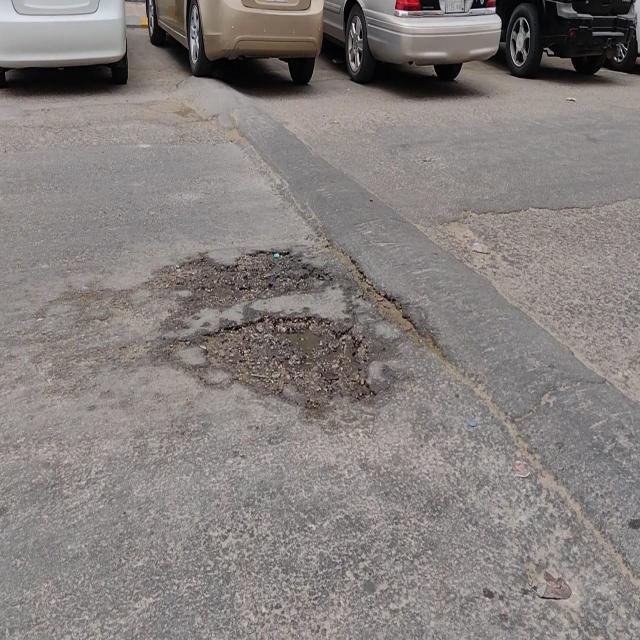Potholes: (209, 320, 366, 410), (169, 246, 311, 307)
